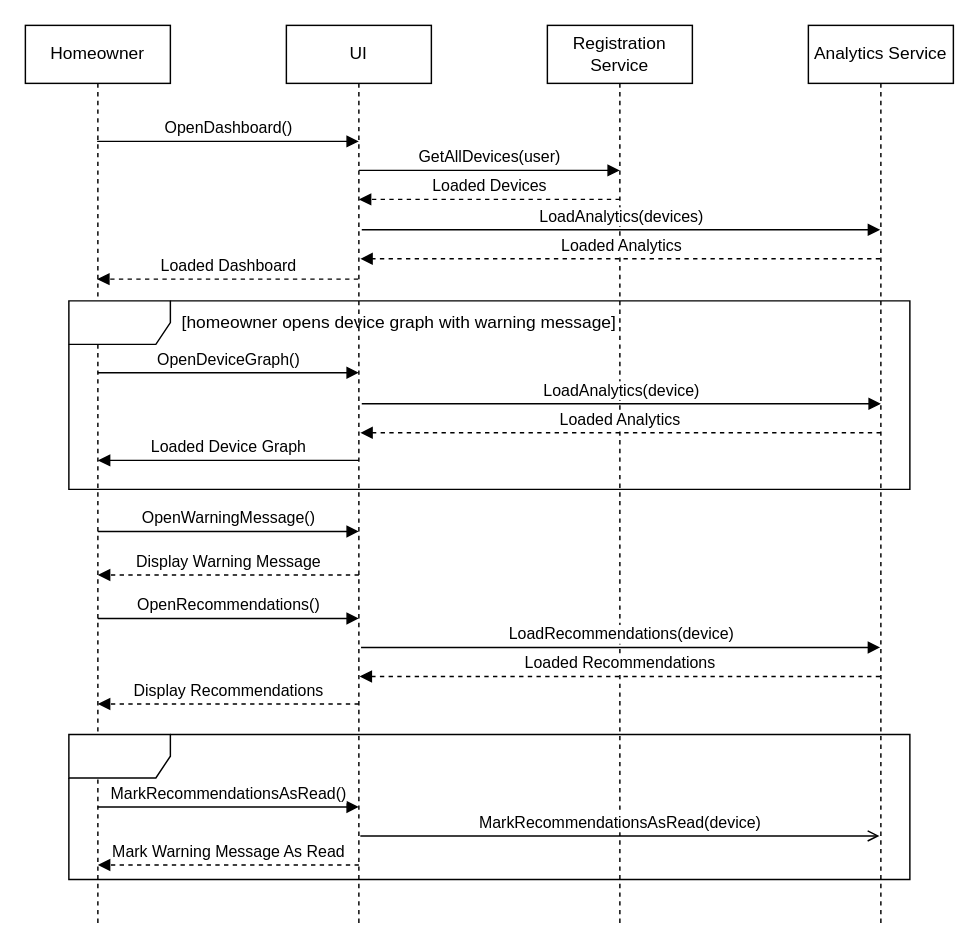
The diagram is 979 pixels wide and 950 high, and some of its shapes have lost their labels. The shapes that lost their labels are listed below. From the top down, each one's centre as x and y in pixels, then its label:
At (488,394): "alternative".
At (488,806): "optional".
